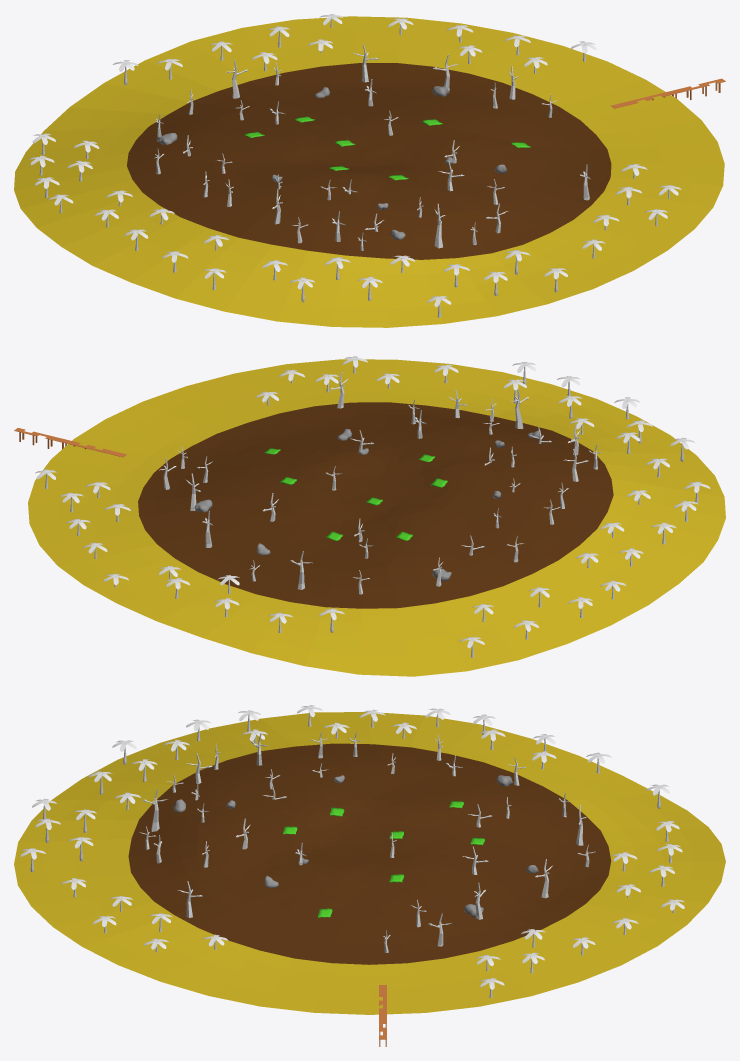
Rendered from IlhaCentoTextured.fbx.
3 views of the same model, one above another, from view 1: azimuth 30°, elevation 25°; view 2: azimuth 150°, elevation 25°; view 3: azimuth 270°, elevation 25° (orthographic).
Visible parts, largest first — view 1: Continente, Ponte; view 2: Continente, Ponte; view 3: Continente.
Part boxes in pixels (box(x1,y1,x2,y2)): Continente: box(14, 16, 724, 327); Ponte: box(611, 78, 725, 108); Continente: box(28, 359, 725, 676); Ponte: box(14, 428, 126, 457); Continente: box(14, 712, 725, 1014).
Bounding box in the file's own units: 64690 × 7181 × 59642.
